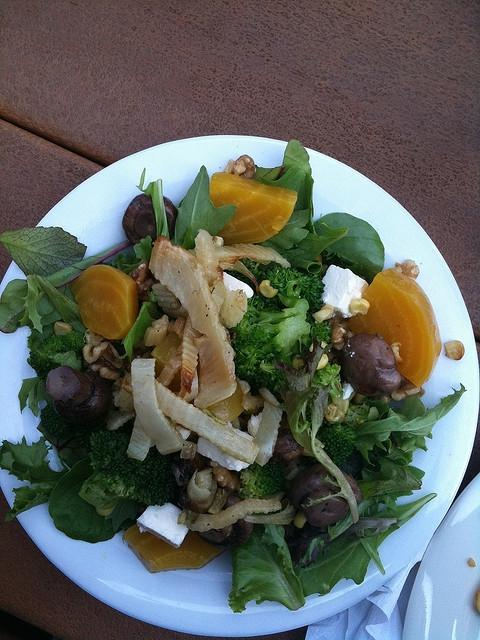broccoli: (224, 259, 333, 397), (88, 431, 176, 506), (29, 330, 84, 380), (315, 423, 357, 467), (238, 462, 286, 499), (40, 404, 76, 439), (312, 362, 344, 401), (316, 320, 333, 343)
lettuce: (294, 493, 437, 598), (0, 240, 133, 334), (354, 383, 468, 466), (228, 524, 306, 614), (48, 457, 123, 544), (174, 165, 237, 250), (314, 212, 384, 286), (2, 226, 88, 278), (18, 274, 88, 335), (0, 434, 69, 488), (356, 444, 422, 500), (118, 287, 162, 363), (285, 213, 349, 262), (260, 166, 314, 212), (136, 168, 170, 240), (260, 208, 310, 255), (18, 377, 54, 418), (393, 394, 425, 421), (389, 431, 428, 453), (102, 252, 140, 271)
mushroom: (342, 332, 404, 393), (288, 464, 348, 527), (46, 366, 112, 420), (198, 493, 253, 550), (122, 192, 178, 245), (272, 416, 304, 467)
